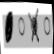correct: (3, 11, 15, 45)
not correct: (27, 7, 42, 46)
